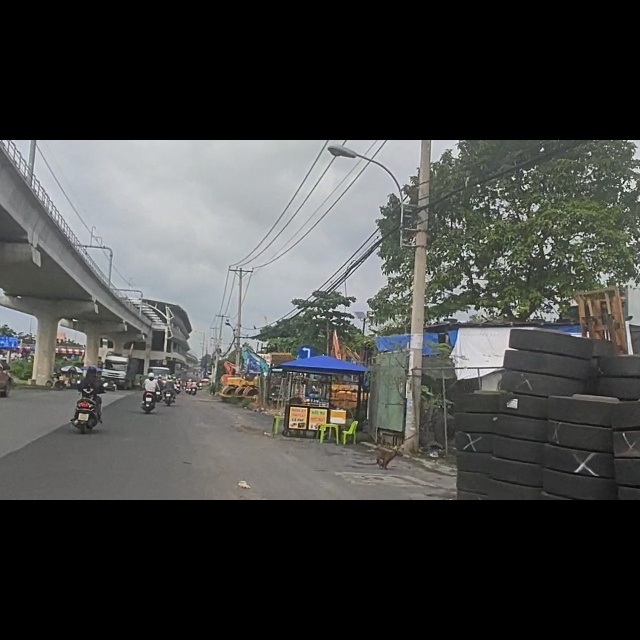bien_chi_dan: (298, 364, 314, 391)
